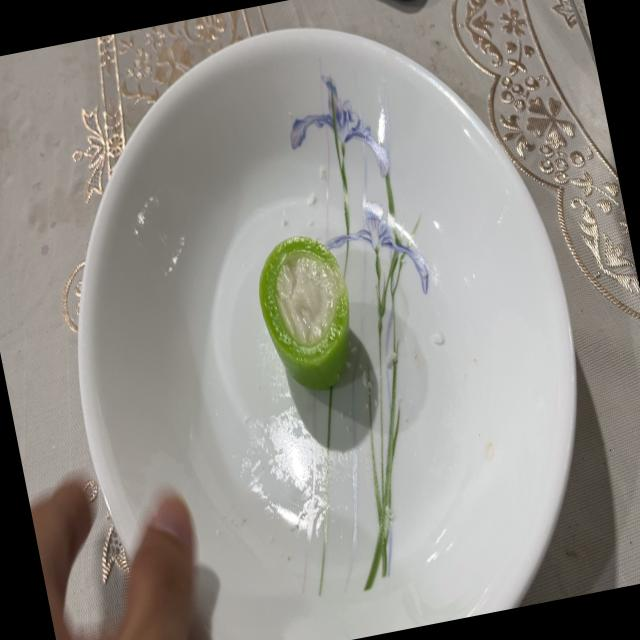nona-manis: (259, 236, 349, 390)
